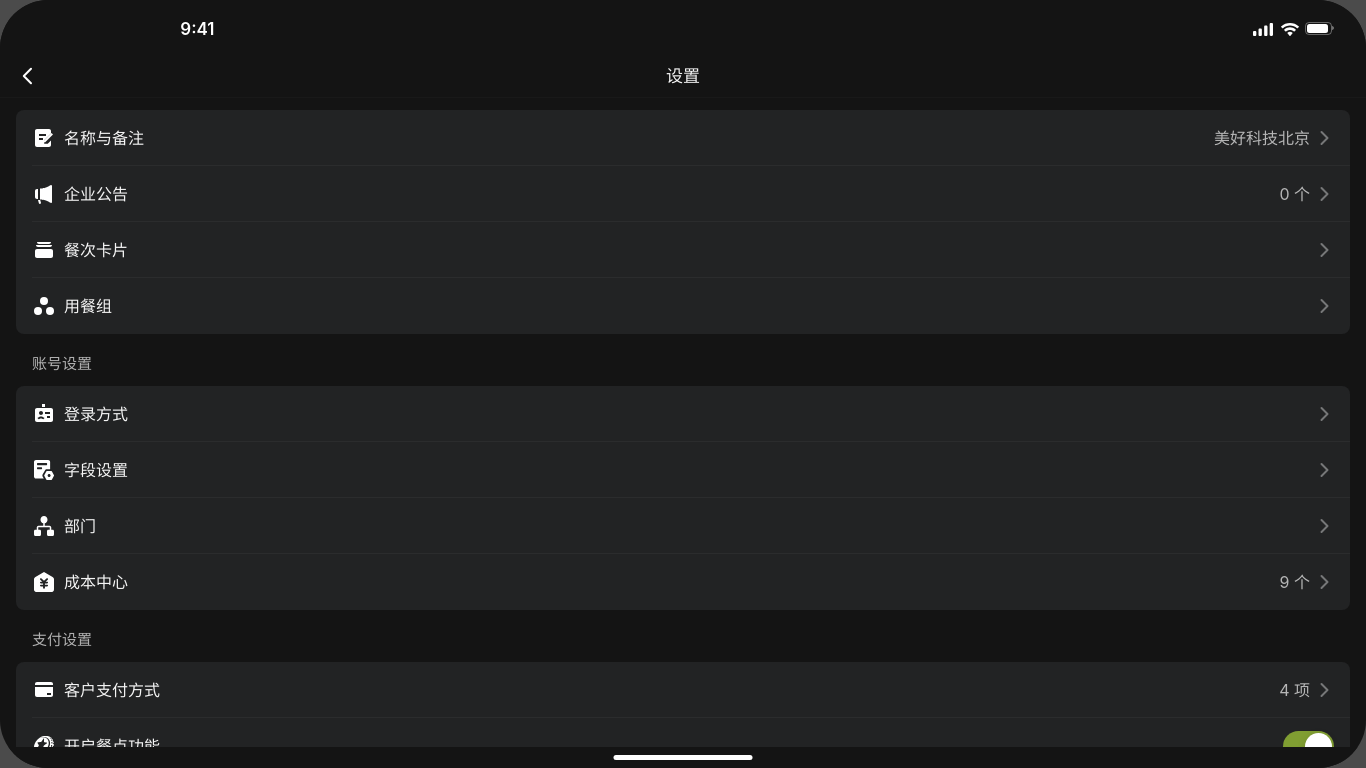
Scenario: SettingsView › renders setting groups and toggles a switch independently
The image size is (1366, 768).
Expected: the element "账号设置" is shown, [16, 342, 1350, 610]
Click the switch named "开启餐点功能": (1308, 746) [1283, 730, 1334, 762]
(page scrolled)
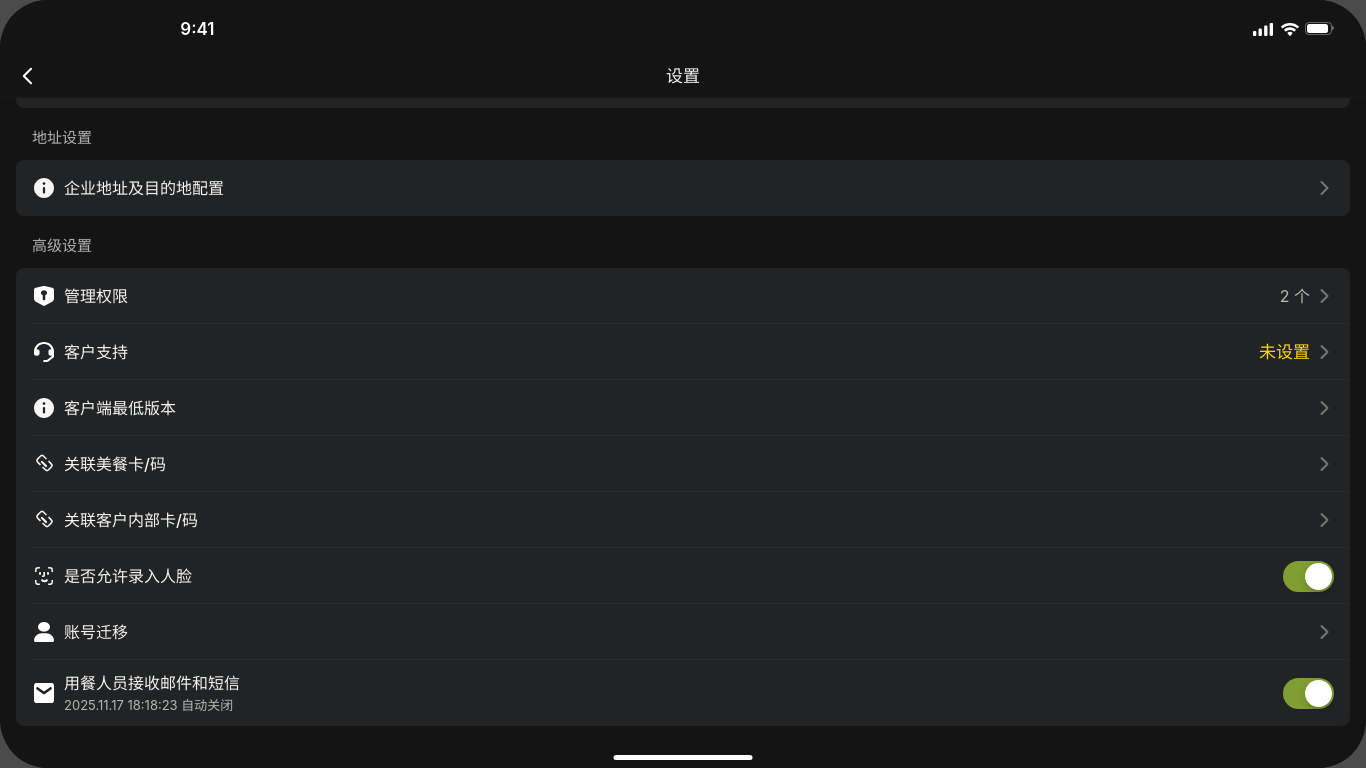
Expected: the switch named "开启餐点功能" is not checked, [1283, 8, 1334, 40]
Now the switch named "是否允许录入人脸" is checked, box [1283, 560, 1334, 592]
